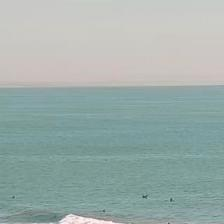surfer: (142, 194, 148, 199), (169, 197, 174, 202), (12, 195, 16, 198), (100, 210, 106, 212), (166, 222, 171, 223)
